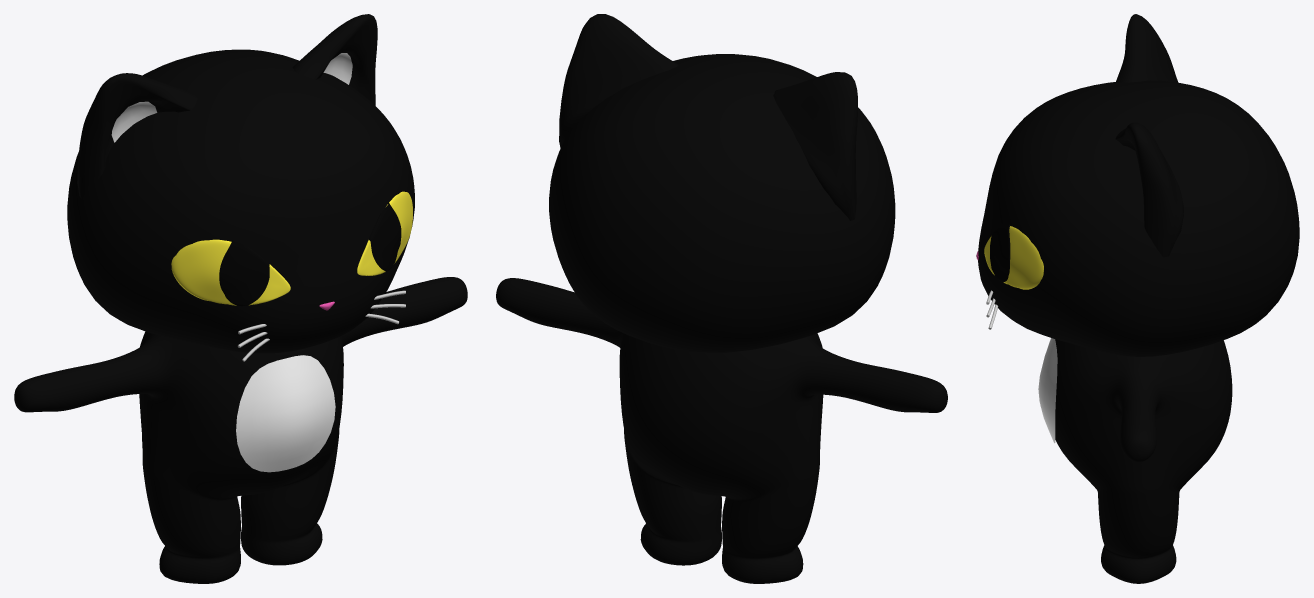
Rendered from cat.glb.
3 views of the same model, side by side, from view 1: azimuth 30°, elevation 25°; view 2: azimuth 150°, elevation 25°; view 3: azimuth 270°, elevation 25° (orthographic). The views are drawn at different scales.
Visible parts, largest first — view 1: Cube.022, Cube.023, Cube.024, Cube.028, Cube.025, Cube.026, BézierCurve.005; view 2: Cube.022, Cube.023, Cube.024; view 3: Cube.022, Cube.023, Cube.024, Cube.025, Cube.028, Cube.026.
Boxes of the visible parts, x1=… form: Cube.022: x1=67, y1=49, x2=414, y2=353; Cube.023: x1=14, y1=277, x2=467, y2=583; Cube.024: x1=77, y1=14, x2=377, y2=198; Cube.028: x1=236, y1=355, x2=335, y2=472; Cube.025: x1=171, y1=191, x2=412, y2=305; Cube.026: x1=219, y1=202, x2=401, y2=306; BézierCurve.005: x1=237, y1=290, x2=405, y2=361; Cube.022: x1=549, y1=54, x2=895, y2=352; Cube.023: x1=496, y1=278, x2=947, y2=583; Cube.024: x1=559, y1=14, x2=857, y2=220; Cube.022: x1=978, y1=80, x2=1299, y2=356; Cube.023: x1=1055, y1=339, x2=1232, y2=583; Cube.024: x1=1115, y1=14, x2=1183, y2=257; Cube.025: x1=984, y1=226, x2=1043, y2=289; Cube.028: x1=1038, y1=338, x2=1057, y2=443; Cube.026: x1=990, y1=224, x2=1010, y2=282.
Bounding box in the file's own units: 2.3 × 2.55 × 1.55.
